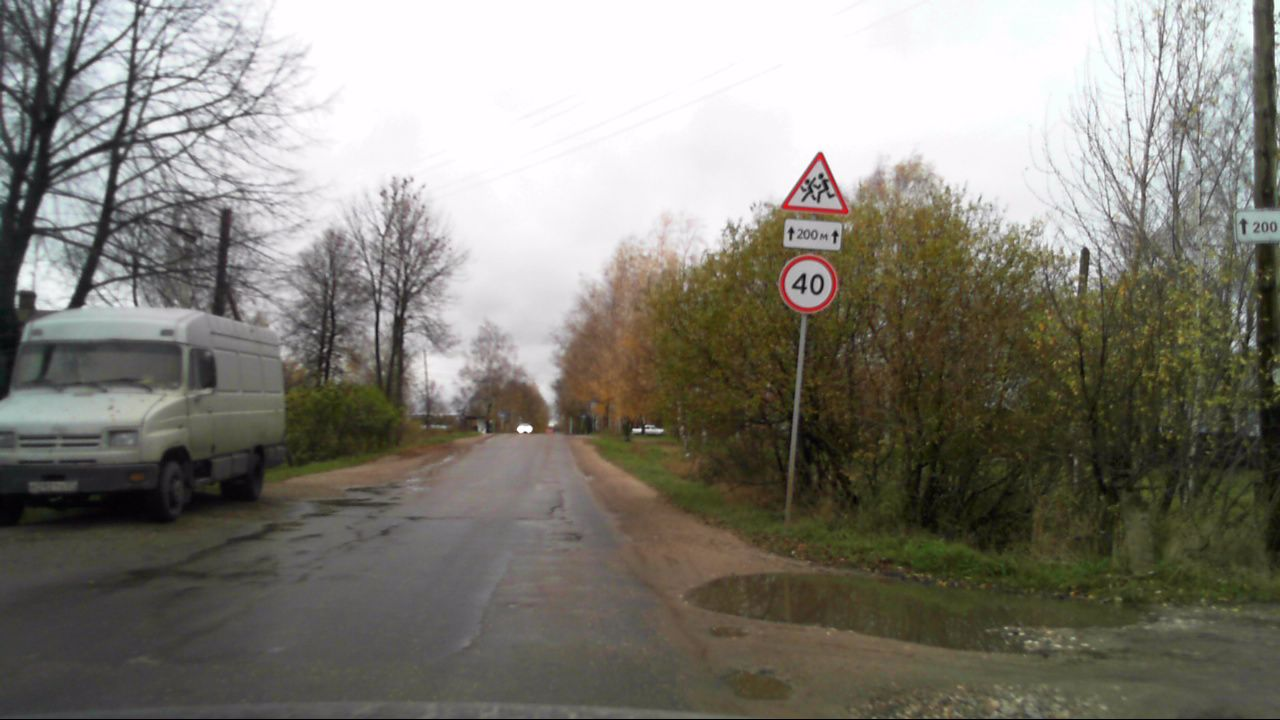speed_warning_40: (777, 253, 839, 315)
